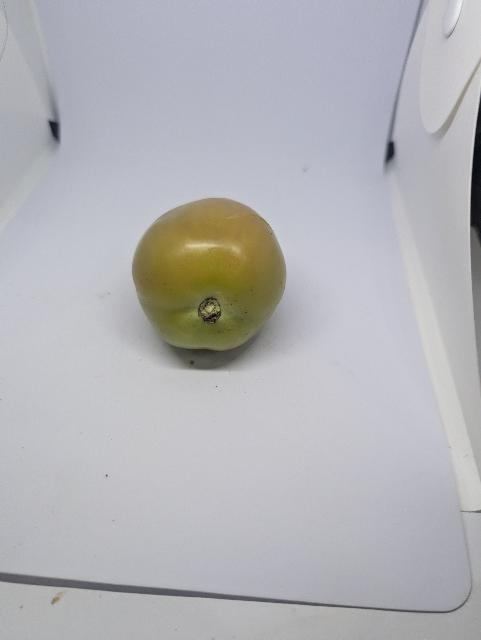breaker: (133, 198, 286, 350)
